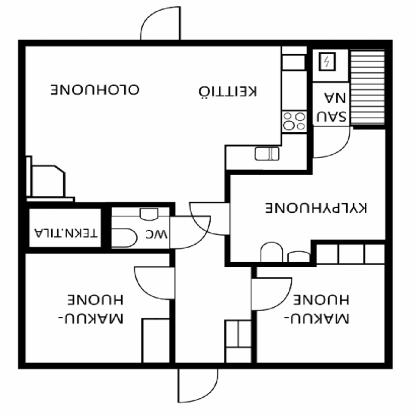door: (130, 265, 178, 303), (173, 364, 221, 402), (186, 200, 232, 237), (139, 6, 183, 42), (250, 277, 294, 312), (169, 216, 211, 250), (312, 126, 352, 160)
zone: (24, 46, 309, 362), (225, 44, 382, 264), (23, 252, 170, 364), (257, 266, 384, 361), (29, 208, 100, 246), (110, 207, 169, 249)
